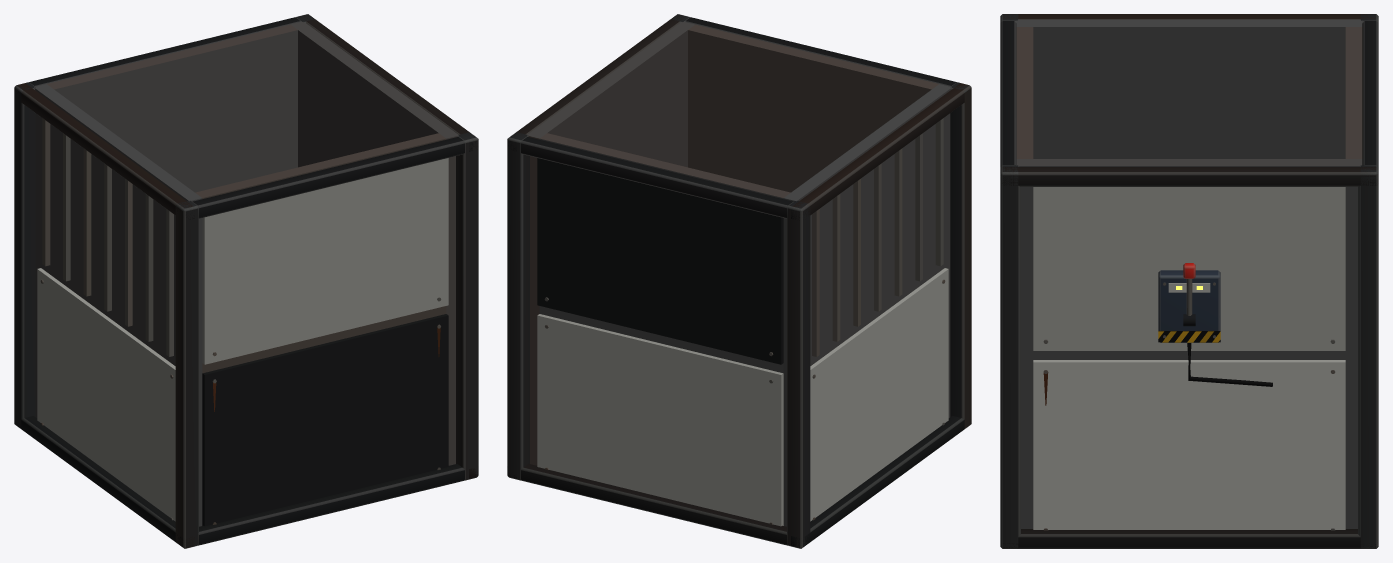
Rendered from chute_dropper_down.glb.
The picture shows the model from 3 angles, left to right: view 1: azimuth 30°, elevation 25°; view 2: azimuth 150°, elevation 25°; view 3: azimuth 270°, elevation 25°; orthographic projection. The views are drawn at different scales.
Parts seen in each view (by area): view 1: Frame; view 2: Frame; view 3: Frame, Lever.
Part boxes in pixels (x1,y1,x2,y2): Frame: [14, 14, 478, 548]; Frame: [507, 14, 971, 548]; Frame: [1000, 14, 1378, 548]; Lever: [1183, 263, 1195, 326].
Bounding box in the file's own units: 1.92 × 2 × 1.82.
